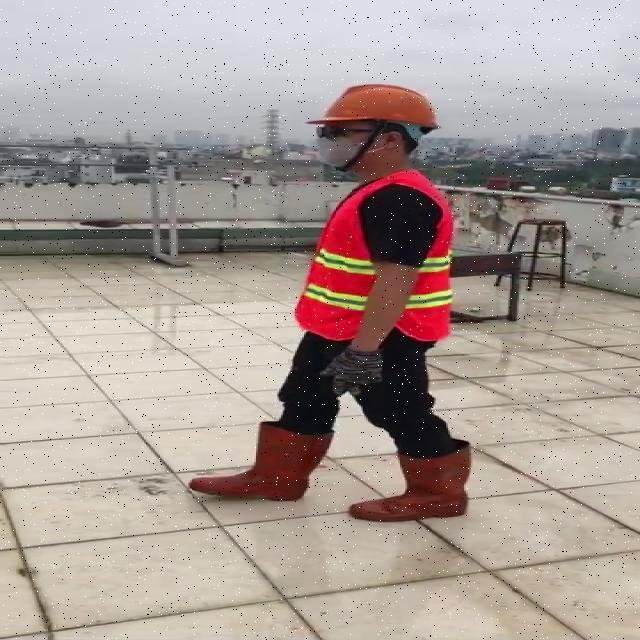Hard_hat: (300, 79, 445, 142)
Person: (183, 73, 484, 534)
Vest: (297, 170, 456, 344)
